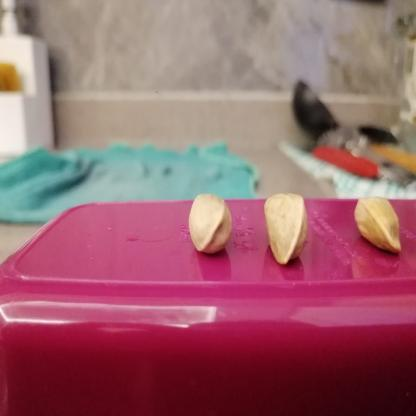pistachio: (260, 191, 316, 270), (352, 189, 404, 256), (186, 191, 238, 252)
